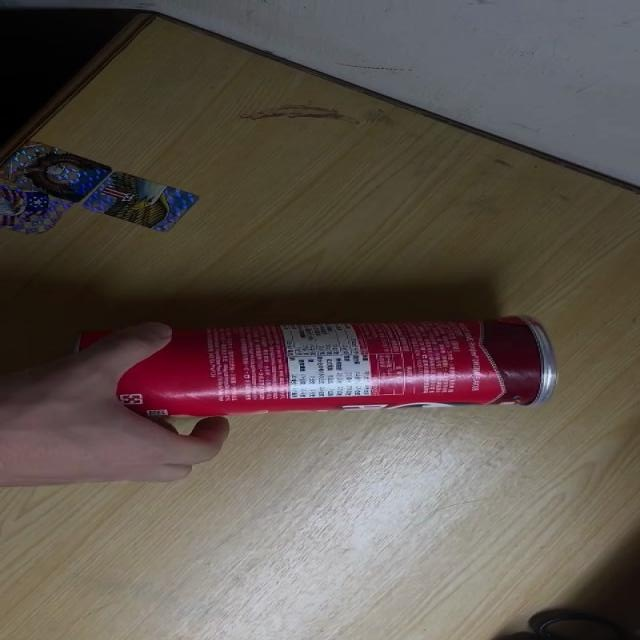Pringles: (69, 313, 558, 424)
